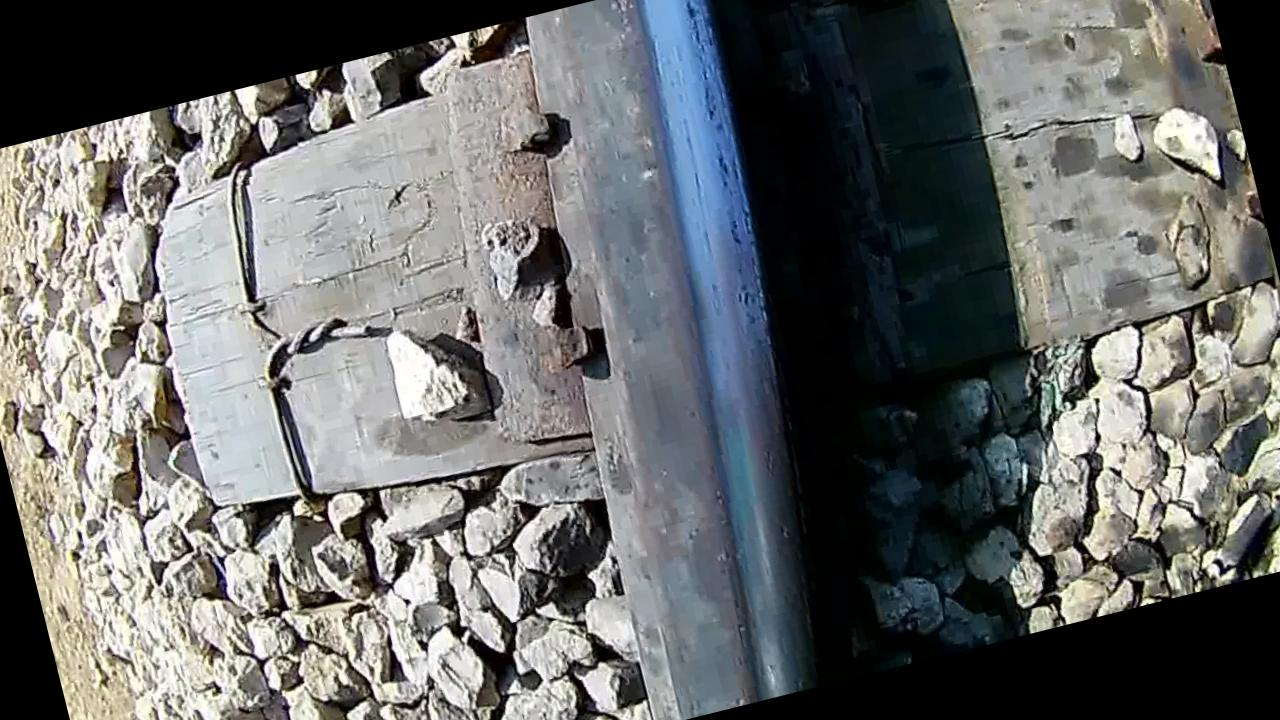crack: (537, 0, 875, 713)
